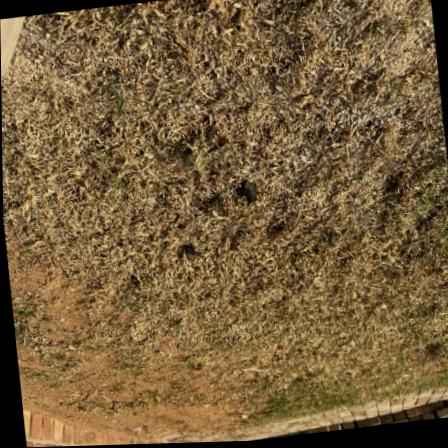dog-poop: (228, 171, 266, 209), (175, 235, 206, 268)
